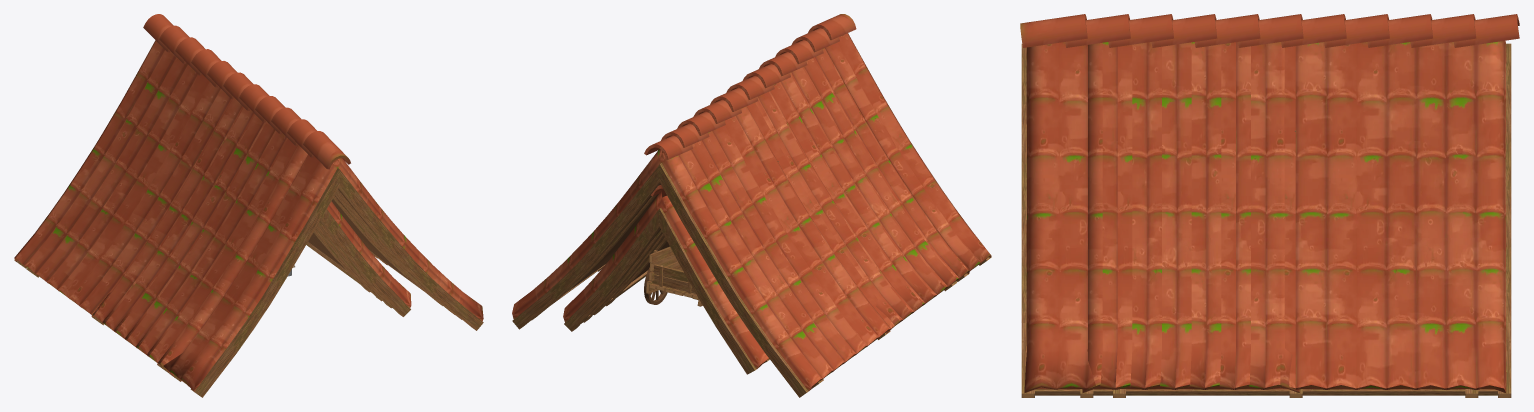
Rendered from medieval.glb.
3 views of the same model, side by side, from view 1: azimuth 30°, elevation 25°; view 2: azimuth 150°, elevation 25°; view 3: azimuth 270°, elevation 25° (orthographic). The views are drawn at different scales.
Parts seen in each view (by area): view 1: Roof_RoundTiles_6x6, Roof_RoundTiles_6x4, Roof_RoundTiles_4x6, Roof_RoundTiles_4x4; view 2: Roof_RoundTiles_6x6, Roof_RoundTiles_6x4, Roof_RoundTiles_4x6, Prop_Wagon, Roof_RoundTiles_4x4; view 3: Roof_RoundTiles_6x6, Roof_RoundTiles_6x4.
Part boxes in pixels (x1,y1,x2,y2): Roof_RoundTiles_6x6: [14, 14, 454, 381]; Roof_RoundTiles_6x4: [91, 72, 483, 397]; Roof_RoundTiles_4x6: [307, 201, 411, 316]; Roof_RoundTiles_4x4: [306, 226, 381, 301]; Roof_RoundTiles_6x6: [512, 28, 969, 397]; Roof_RoundTiles_6x4: [598, 14, 991, 339]; Roof_RoundTiles_4x6: [563, 185, 769, 374]; Prop_Wagon: [644, 246, 702, 306]; Roof_RoundTiles_4x4: [594, 234, 669, 315]; Roof_RoundTiles_6x6: [1065, 14, 1519, 397]; Roof_RoundTiles_6x4: [1020, 14, 1303, 397].
Bounding box in the file's own units: 8.25 × 7.01 × 8.79.
Materials: 9 (8 with a texture image).
